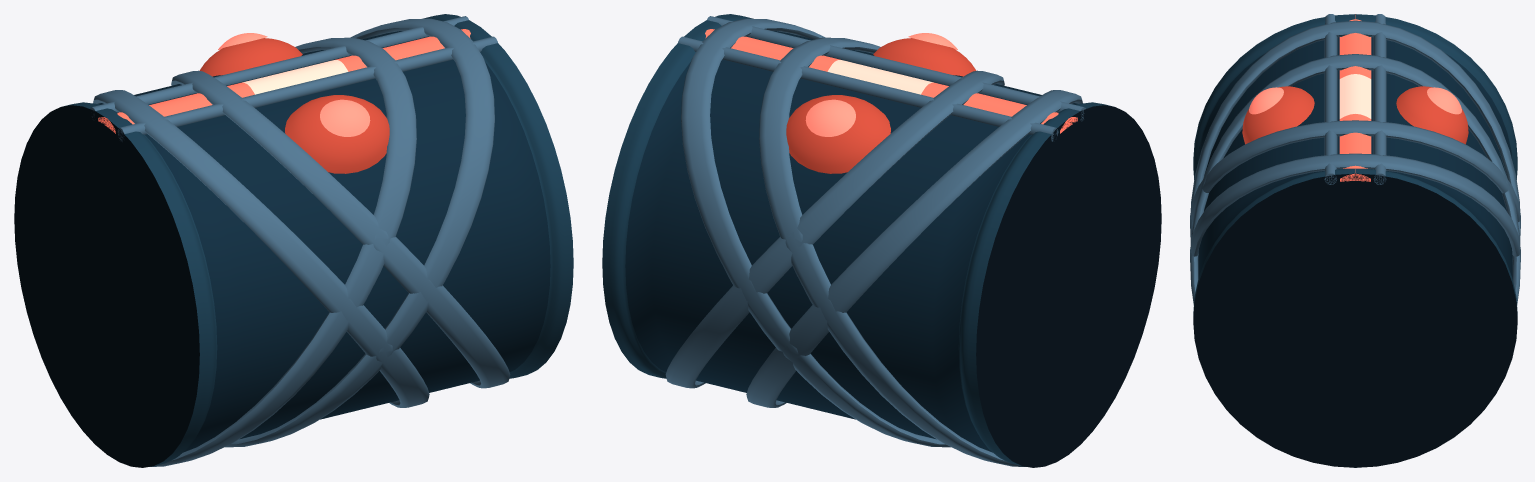
File: maze_pipe_cage_121.glb
3 views of the same model, side by side, from view 1: azimuth 30°, elevation 25°; view 2: azimuth 150°, elevation 25°; view 3: azimuth 270°, elevation 25° (orthographic). The views are drawn at different scales.
Parts seen in each view (by area): view 1: pipe, hoop3, hoop1, hoop2, hoop0, core-1, band, rail-1, rail1, core1, heart-1; view 2: pipe, hoop3, hoop1, hoop2, hoop0, core1, band, rail1, rail-1, core-1, heart1; view 3: pipe, hoop2, hoop3, hoop0, hoop1, band, core1, core-1, rail1, rail-1, heart1, heart-1.
Part boxes in pixels (x1=…): pipe: x1=14, y1=14, x2=573, y2=467; hoop3: x1=225, y1=18, x2=494, y2=447; hoop1: x1=150, y1=37, x2=416, y2=466; hoop2: x1=93, y1=90, x2=429, y2=407; hoop0: x1=171, y1=70, x2=510, y2=388; core-1: x1=285, y1=95, x2=389, y2=173; band: x1=98, y1=29, x2=470, y2=133; rail-1: x1=117, y1=36, x2=497, y2=141; rail1: x1=90, y1=16, x2=468, y2=117; core1: x1=199, y1=38, x2=302, y2=76; heart-1: x1=320, y1=99, x2=370, y2=136; pipe: x1=602, y1=14, x2=1161, y2=467; hoop3: x1=681, y1=18, x2=950, y2=447; hoop1: x1=759, y1=37, x2=1025, y2=466; hoop2: x1=746, y1=90, x2=1082, y2=407; hoop0: x1=665, y1=70, x2=1004, y2=388; core1: x1=786, y1=95, x2=890, y2=173; band: x1=705, y1=29, x2=1077, y2=133; rail1: x1=678, y1=36, x2=1058, y2=141; rail-1: x1=707, y1=16, x2=1085, y2=121; core-1: x1=873, y1=38, x2=976, y2=76; heart1: x1=805, y1=99, x2=855, y2=136; pipe: x1=1193, y1=14, x2=1517, y2=467; hoop2: x1=1190, y1=20, x2=1520, y2=242; hoop3: x1=1190, y1=153, x2=1520, y2=261; hoop0: x1=1190, y1=54, x2=1520, y2=467; hoop1: x1=1190, y1=120, x2=1520, y2=225; band: x1=1339, y1=14, x2=1371, y2=181; core1: x1=1396, y1=86, x2=1468, y2=144; core-1: x1=1242, y1=86, x2=1314, y2=144; rail1: x1=1373, y1=14, x2=1386, y2=184; rail-1: x1=1324, y1=14, x2=1337, y2=184; heart1: x1=1427, y1=87, x2=1461, y2=114; heart-1: x1=1249, y1=87, x2=1283, y2=114.
Bounding box in the file's own units: 24 × 21.03 × 21.02.
